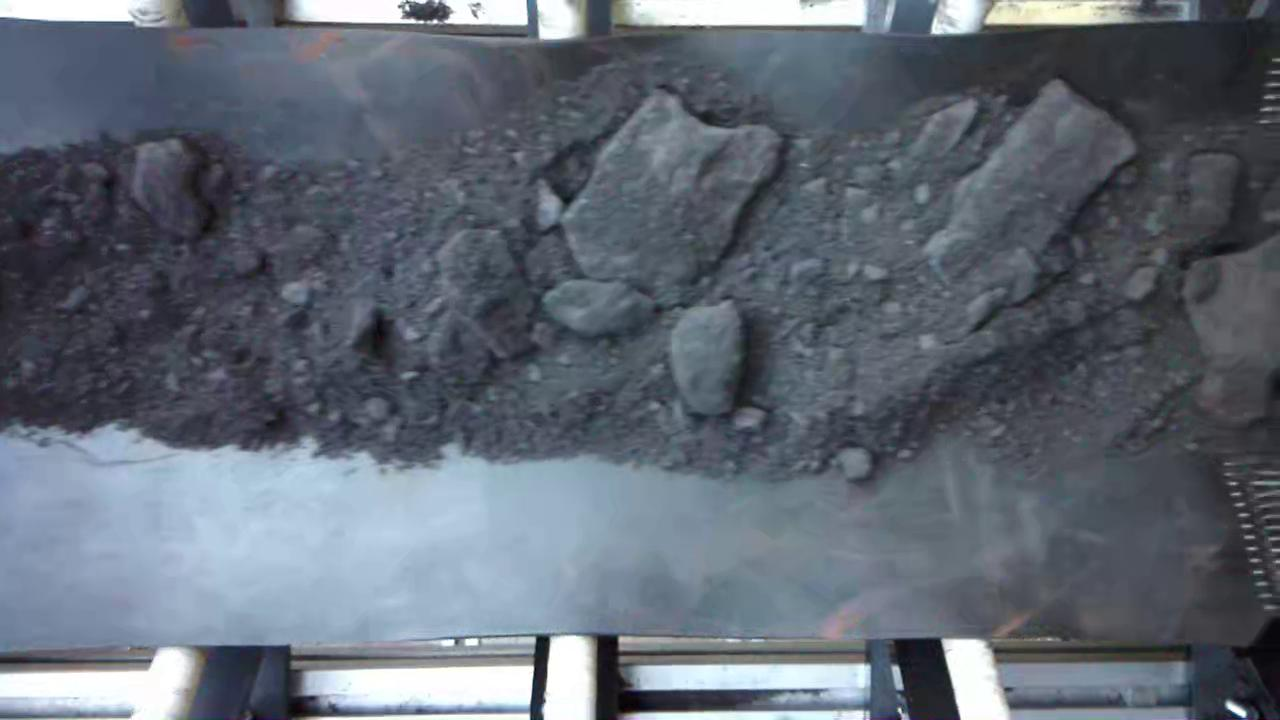conveyor: (3, 37, 1280, 648)
